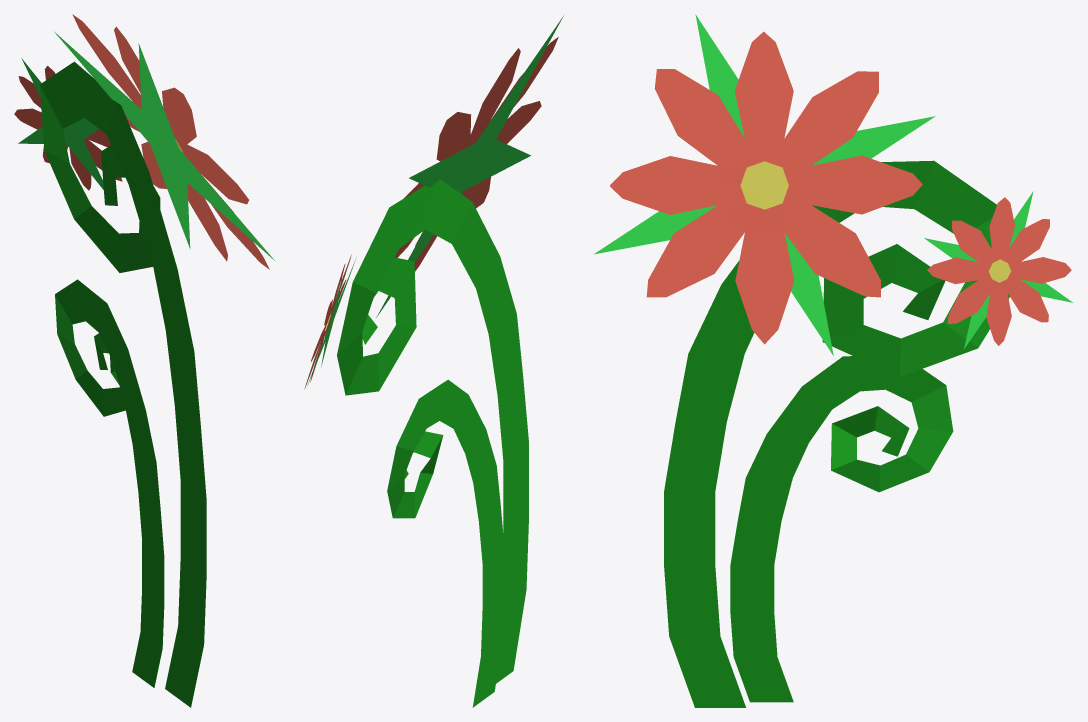
Rendered from FLOWER_2.fbx.
3 views of the same model, side by side, from view 1: azimuth 30°, elevation 25°; view 2: azimuth 150°, elevation 25°; view 3: azimuth 270°, elevation 25° (orthographic).
Visible parts, largest first — view 1: TIGE_FLEUR_BIG.001; view 2: TIGE_FLEUR_BIG.001; view 3: TIGE_FLEUR_BIG.001.
Boxes of the visible parts, x1,y1,x2,y2 form: TIGE_FLEUR_BIG.001: (14, 14, 275, 707); TIGE_FLEUR_BIG.001: (304, 16, 563, 707); TIGE_FLEUR_BIG.001: (594, 14, 1072, 707).
Bounding box in the file's own units: 68.28 × 358 × 233.
